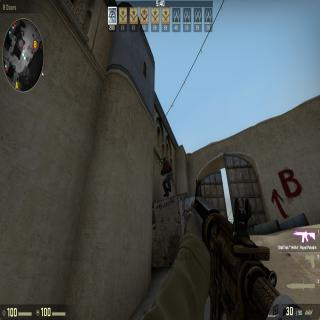T-Body: (161, 154, 173, 197)
T-Head: (162, 155, 166, 164)
